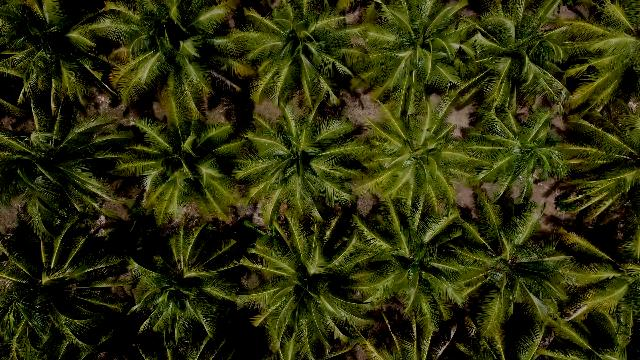trees: (448, 195, 607, 342), (238, 208, 385, 357), (81, 2, 245, 122), (2, 219, 140, 358), (349, 196, 476, 347), (438, 2, 594, 119), (453, 94, 611, 207), (3, 108, 139, 239), (361, 83, 489, 220), (229, 2, 371, 118), (123, 223, 249, 351), (232, 109, 363, 227), (122, 116, 251, 225), (3, 1, 121, 117), (360, 2, 471, 115), (454, 288, 550, 360), (538, 305, 635, 359)
